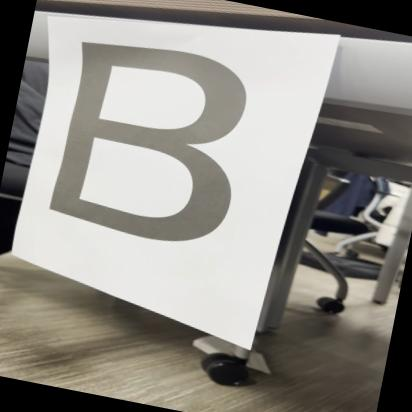seat: (22, 17, 274, 272)
